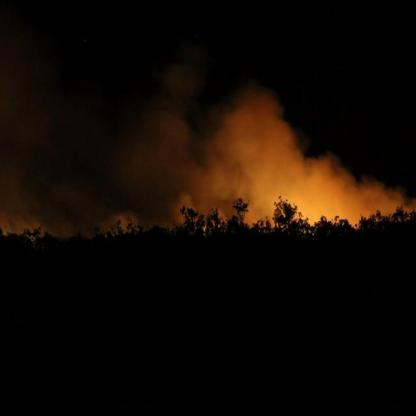smoke: (200, 99, 380, 196)
